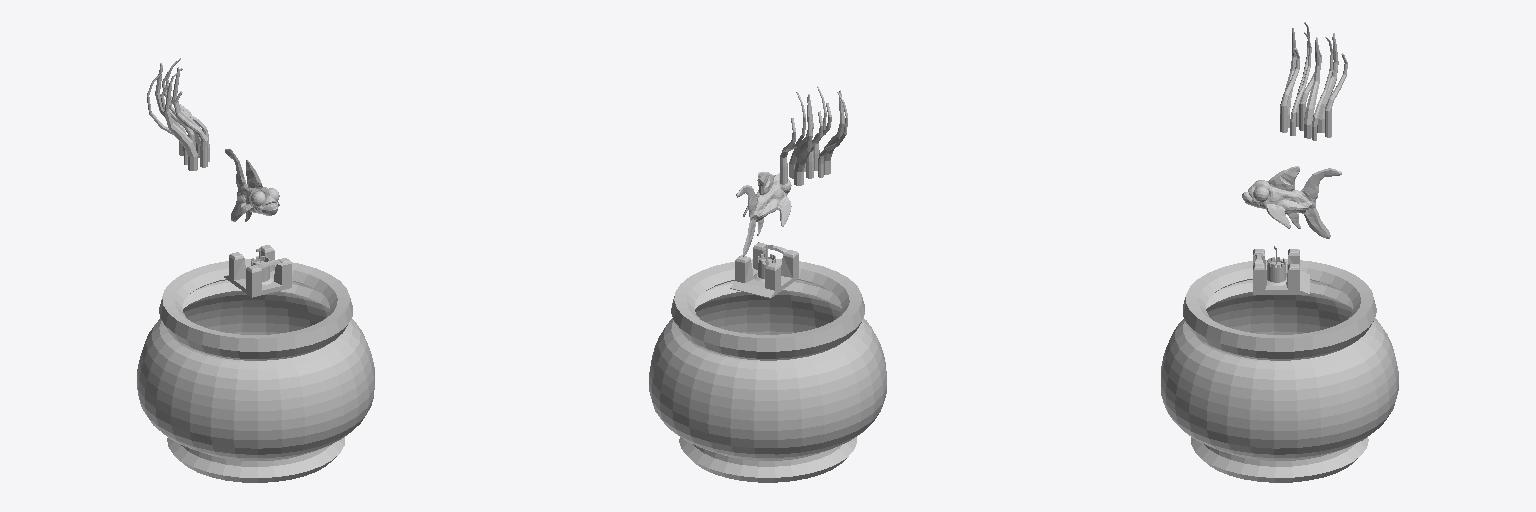
File: FishAssetsv2.obj
The picture shows the model from 3 angles: view 1: azimuth 30°, elevation 25°; view 2: azimuth 150°, elevation 25°; view 3: azimuth 270°, elevation 25°; orthographic projection.
Visible parts, largest first — view 1: FishBowl, SandCastle, FishRetopo4_finish, Sea_vines Sea_vines2 Sea_vines1, Sea_vines pCylinder8 pCylinder7 pCylinder6, Sea_vines pCylinder10 pCylinder9 pCylinder5; view 2: FishBowl, SandCastle, FishRetopo4_finish, Sea_vines Sea_vines2 Sea_vines1, Sea_vines pCylinder8 pCylinder7 pCylinder6, Sea_vines pCylinder10 pCylinder9 pCylinder5; view 3: FishBowl, FishRetopo4_finish, SandCastle, Sea_vines Sea_vines2 Sea_vines1, Sea_vines pCylinder8 pCylinder7 pCylinder6, Sea_vines pCylinder10 pCylinder9 pCylinder5.
Part boxes in pixels (bbox=[...]): FishBowl: bbox=[137, 259, 374, 482]; SandCastle: bbox=[224, 245, 291, 297]; FishRetopo4_finish: bbox=[225, 149, 279, 221]; Sea_vines Sea_vines2 Sea_vines1: bbox=[155, 63, 200, 170]; Sea_vines pCylinder8 pCylinder7 pCylinder6: bbox=[160, 71, 207, 167]; Sea_vines pCylinder10 pCylinder9 pCylinder5: bbox=[147, 58, 209, 164]; FishBowl: bbox=[649, 259, 886, 482]; SandCastle: bbox=[730, 242, 798, 298]; FishRetopo4_finish: bbox=[736, 172, 791, 256]; Sea_vines Sea_vines2 Sea_vines1: bbox=[789, 90, 844, 185]; Sea_vines pCylinder8 pCylinder7 pCylinder6: bbox=[780, 103, 831, 184]; Sea_vines pCylinder10 pCylinder9 pCylinder5: bbox=[788, 86, 847, 177]; FishBowl: bbox=[1161, 259, 1398, 482]; FishRetopo4_finish: bbox=[1242, 166, 1341, 238]; SandCastle: bbox=[1253, 246, 1309, 294]; Sea_vines Sea_vines2 Sea_vines1: bbox=[1285, 28, 1338, 138]; Sea_vines pCylinder8 pCylinder7 pCylinder6: bbox=[1280, 48, 1347, 137]; Sea_vines pCylinder10 pCylinder9 pCylinder5: bbox=[1290, 22, 1332, 140].
Bounding box in the file's own units: 31.46 × 56.32 × 31.42.